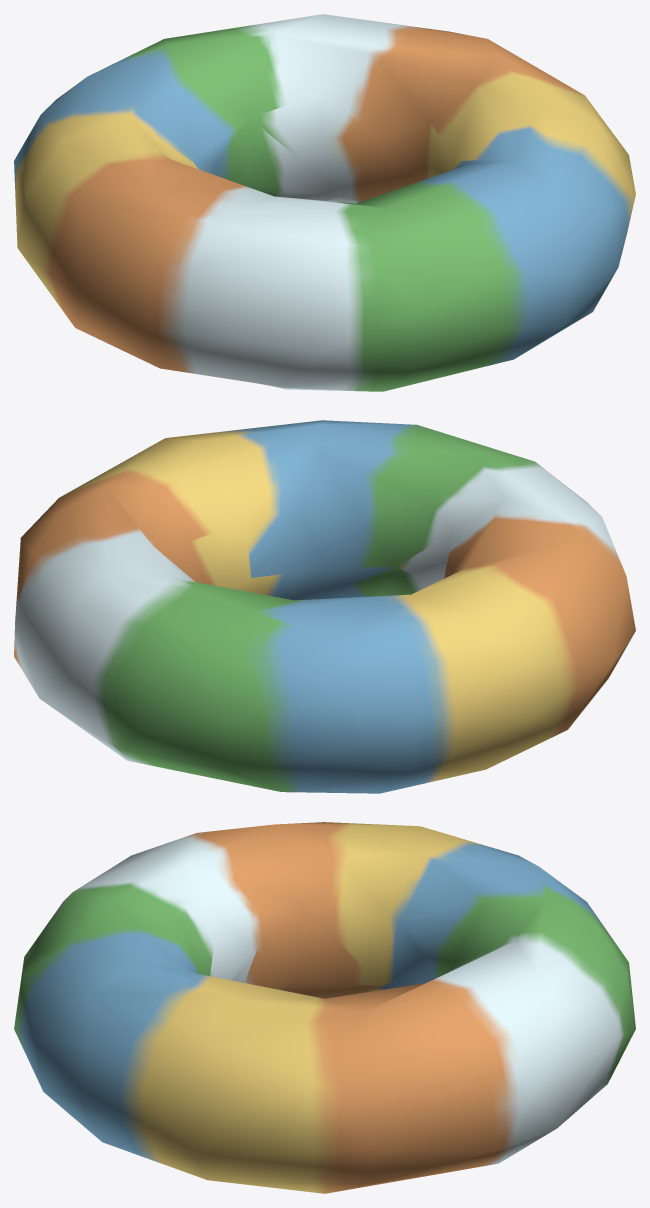
File: yyq3.fbx
The picture shows the model from 3 angles, top to bottom: view 1: azimuth 30°, elevation 25°; view 2: azimuth 150°, elevation 25°; view 3: azimuth 270°, elevation 25°; orthographic projection.
Parts seen in each view (by area): view 1: Floaters; view 2: Floaters; view 3: Floaters.
Part boxes in pixels (left/top/right/bottom): Floaters: left=14, top=14, right=635, bottom=391; Floaters: left=14, top=420, right=635, bottom=793; Floaters: left=14, top=822, right=635, bottom=1193.
Size of the model in its own units: 131 by 41.66 by 133.
Materials: 1 (1 with a texture image).
